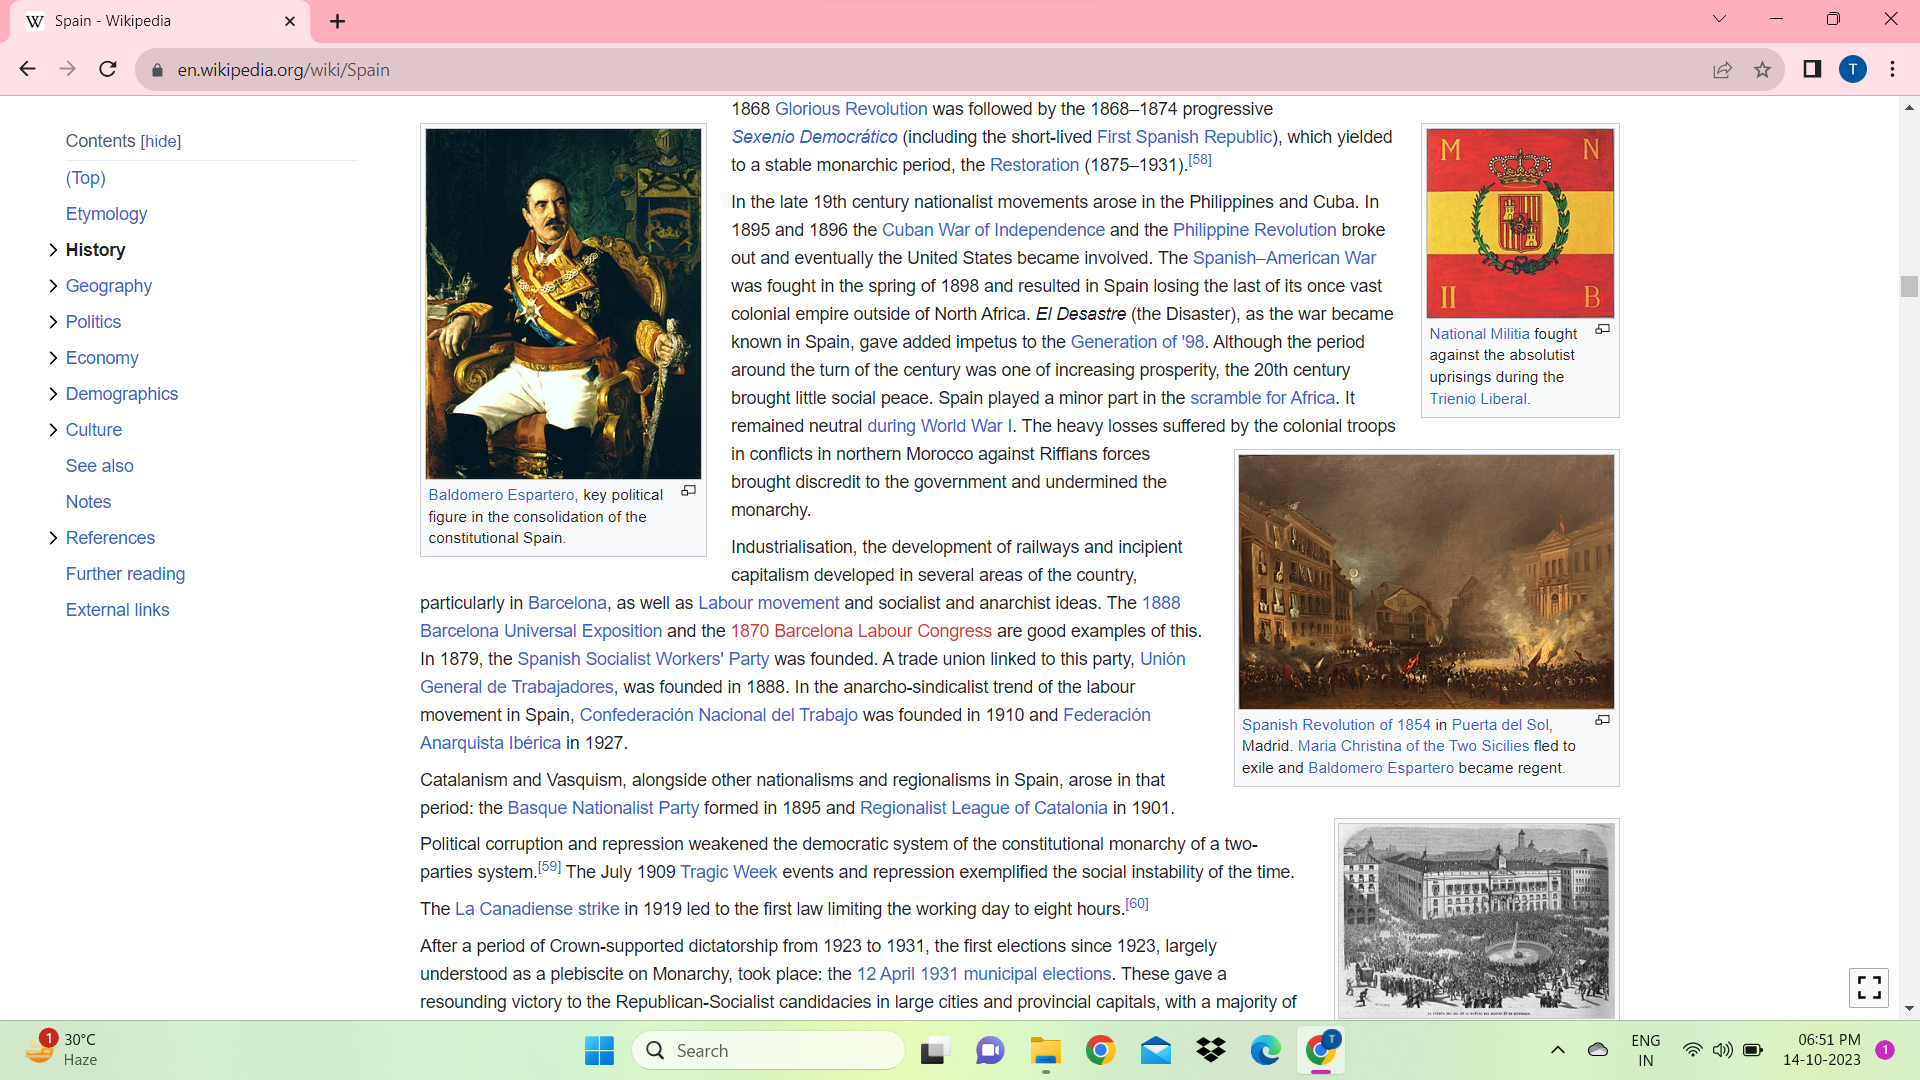Image: (411, 108, 709, 479), (1224, 447, 1629, 703), (1336, 807, 1611, 1011), (1424, 112, 1627, 323)
Paragraph: (411, 764, 1312, 1021), (727, 186, 1400, 525), (393, 533, 1217, 757), (715, 98, 1407, 177), (421, 483, 696, 553), (50, 116, 194, 152), (57, 269, 166, 298), (54, 343, 160, 371), (61, 488, 132, 522), (58, 164, 132, 193), (62, 410, 132, 440)
